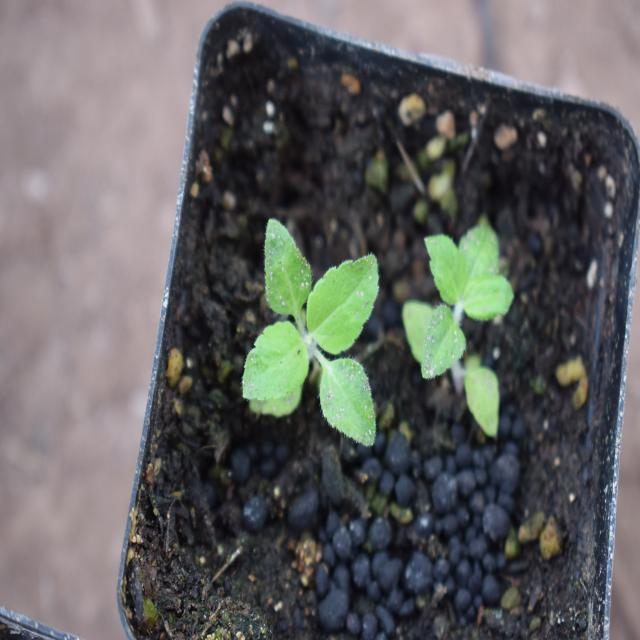billygoat_weed: (248, 219, 392, 454), (403, 192, 520, 445)
